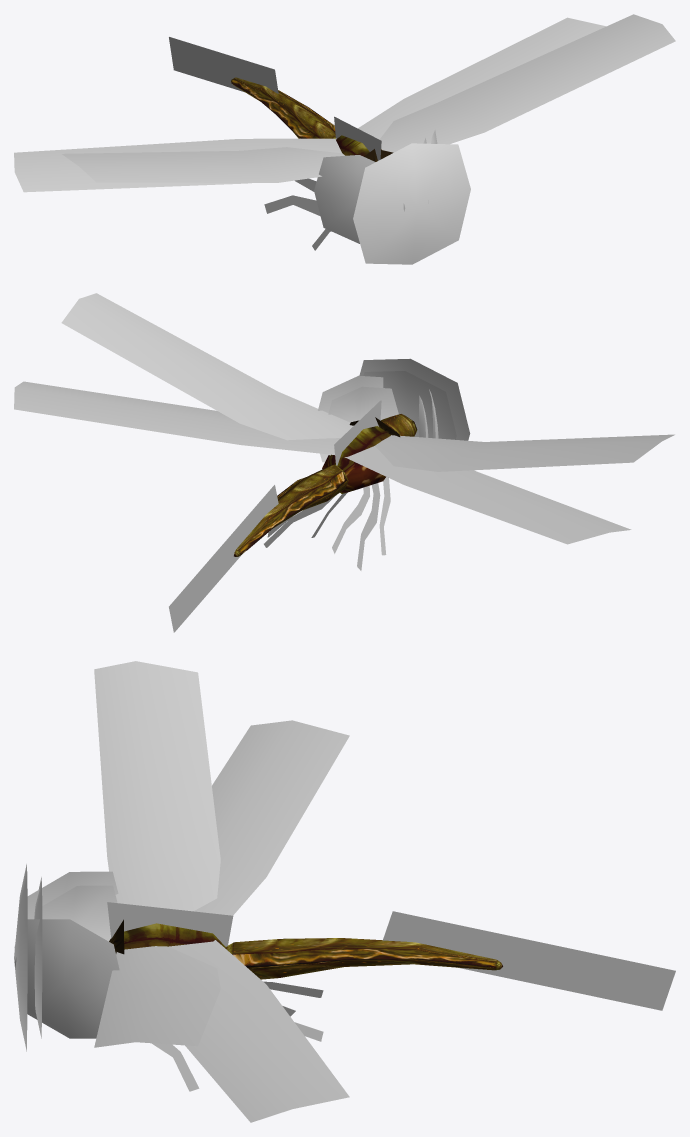
Rendered from Bug_Arti_01.fbx.
The picture shows the model from 3 angles, top to bottom: view 1: azimuth 30°, elevation 25°; view 2: azimuth 150°, elevation 25°; view 3: azimuth 270°, elevation 25°; orthographic projection. The views are drawn at different scales.
Visible parts, largest first — view 1: Bug_Arti_01, Bio_Arti_03_scrn; view 2: Bug_Arti_01, Bio_Arti_03_scrn; view 3: Bug_Arti_01, Bio_Arti_03_scrn.
Part boxes in pixels (x1,y1,x2,y2): Bug_Arti_01: [14, 14, 675, 250]; Bio_Arti_03_scrn: [314, 130, 470, 264]; Bug_Arti_01: [14, 293, 674, 632]; Bio_Arti_03_scrn: [318, 358, 470, 462]; Bug_Arti_01: [94, 661, 675, 1122]; Bio_Arti_03_scrn: [14, 864, 119, 1051].
Bounding box in the file's own units: 1.04 × 0.2647 × 0.7338.
